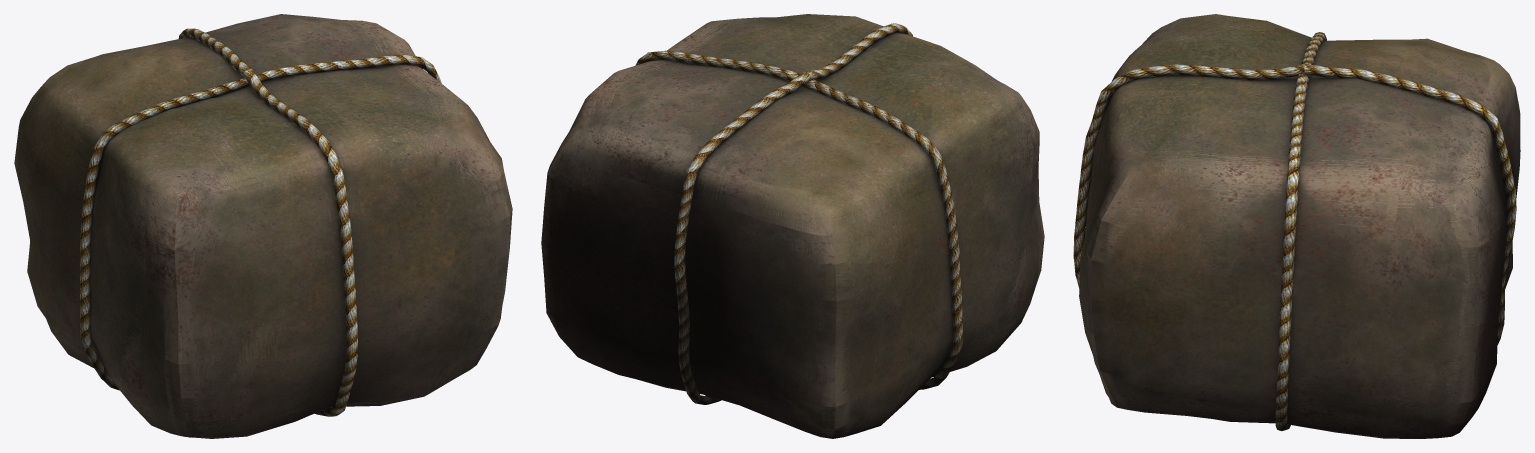
The model's file is BoxBag.fbx.
The picture shows the model from 3 angles, left to right: view 1: azimuth 30°, elevation 25°; view 2: azimuth 150°, elevation 25°; view 3: azimuth 270°, elevation 25°; orthographic projection. The views are drawn at different scales.
Visible parts, largest first — view 1: prim0; view 2: prim0; view 3: prim0.
Boxes of the visible parts, <box> form: prim0: <box>14,14,512,438</box>; prim0: <box>541,14,1044,438</box>; prim0: <box>1073,14,1520,438</box>.
Bounding box in the file's own units: 83.09 × 66.12 × 83.53.
